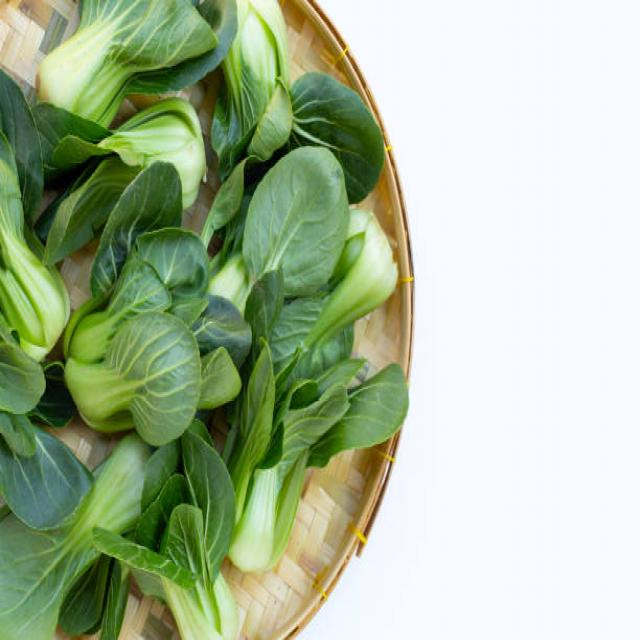Bok Choy: (66, 262, 233, 430), (6, 459, 174, 564), (36, 0, 236, 87), (238, 369, 319, 551), (0, 95, 55, 355), (74, 103, 241, 184)
